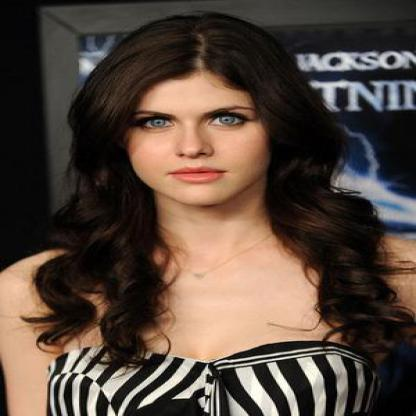long-hair: (36, 204, 394, 270)
